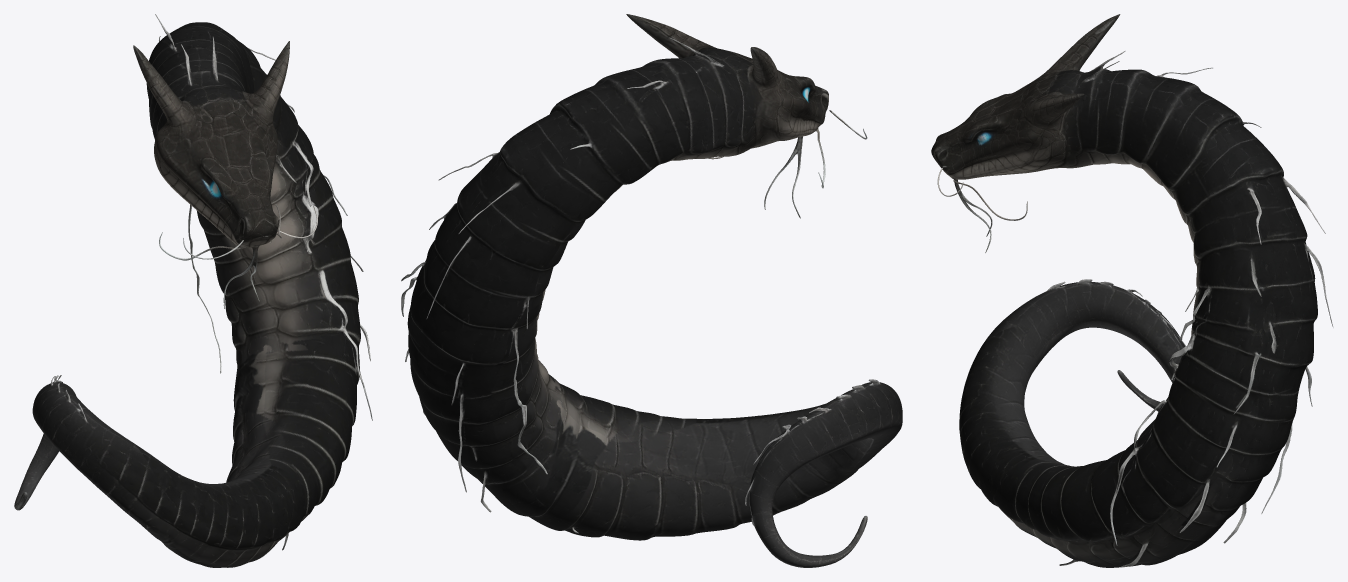
Rendered from iskropluy.fbx.
The picture shows the model from 3 angles, left to right: view 1: azimuth 30°, elevation 25°; view 2: azimuth 150°, elevation 25°; view 3: azimuth 270°, elevation 25°; orthographic projection. The views are drawn at different scales.
Visible parts, largest first — view 1: Mesh_0; view 2: Mesh_0; view 3: Mesh_0.
Part boxes in pixels (bbox=[...]): Mesh_0: bbox=[14, 14, 372, 567]; Mesh_0: bbox=[401, 14, 902, 567]; Mesh_0: bbox=[931, 14, 1333, 567].
Size of the model in its own units: 152 by 190 by 140.
1 material, 1 textured.
